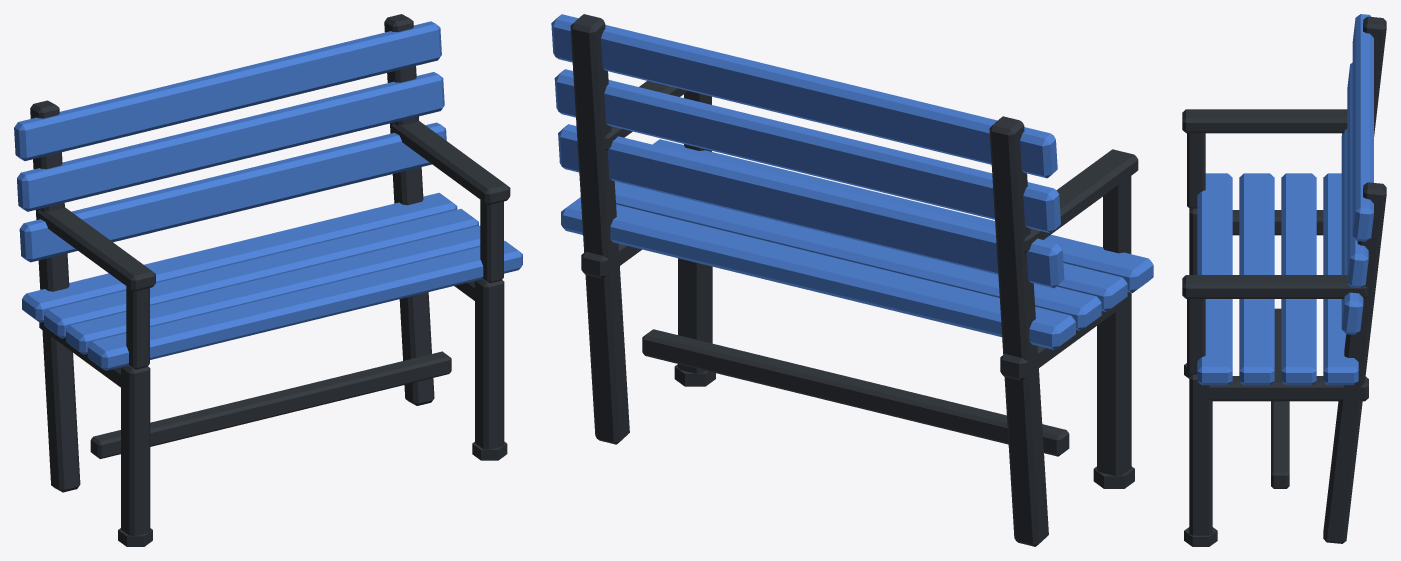
Rendered from bench.glb.
3 views of the same model, side by side, from view 1: azimuth 30°, elevation 25°; view 2: azimuth 150°, elevation 25°; view 3: azimuth 270°, elevation 25° (orthographic). The views are drawn at different scales.
Visible parts, largest first — view 1: bench; view 2: bench; view 3: bench.
Part boxes in pixels (x1,y1,x2,y2): bench: (14,14,522,546); bench: (551,14,1153,546); bench: (1182,14,1386,546).
Size of the model in its own units: 0.5 by 0.4197 by 0.219.
